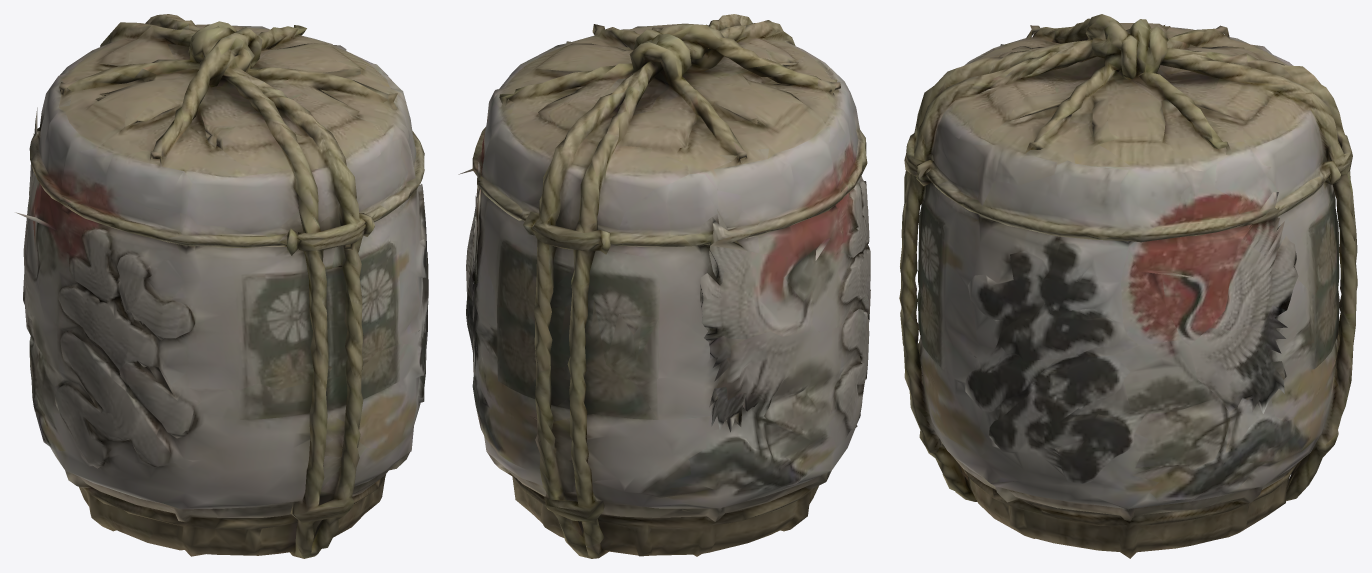
Rendered from sakedaru.glb.
3 renders of one model, left to right at view 1: azimuth 30°, elevation 25°; view 2: azimuth 150°, elevation 25°; view 3: azimuth 270°, elevation 25°, orthographic.
Visible parts, largest first — view 1: tripo_node_8fc3bc95-d752-4dff-9cbb-1dc09f8e6ddd; view 2: tripo_node_8fc3bc95-d752-4dff-9cbb-1dc09f8e6ddd; view 3: tripo_node_8fc3bc95-d752-4dff-9cbb-1dc09f8e6ddd.
Boxes of the visible parts, x1,y1,x2,y2 form: tripo_node_8fc3bc95-d752-4dff-9cbb-1dc09f8e6ddd: (15, 14, 428, 558); tripo_node_8fc3bc95-d752-4dff-9cbb-1dc09f8e6ddd: (458, 14, 870, 558); tripo_node_8fc3bc95-d752-4dff-9cbb-1dc09f8e6ddd: (899, 14, 1357, 558).
Size of the model in its own units: 0.7867 by 1 by 0.8667.
1 material, 1 textured.
